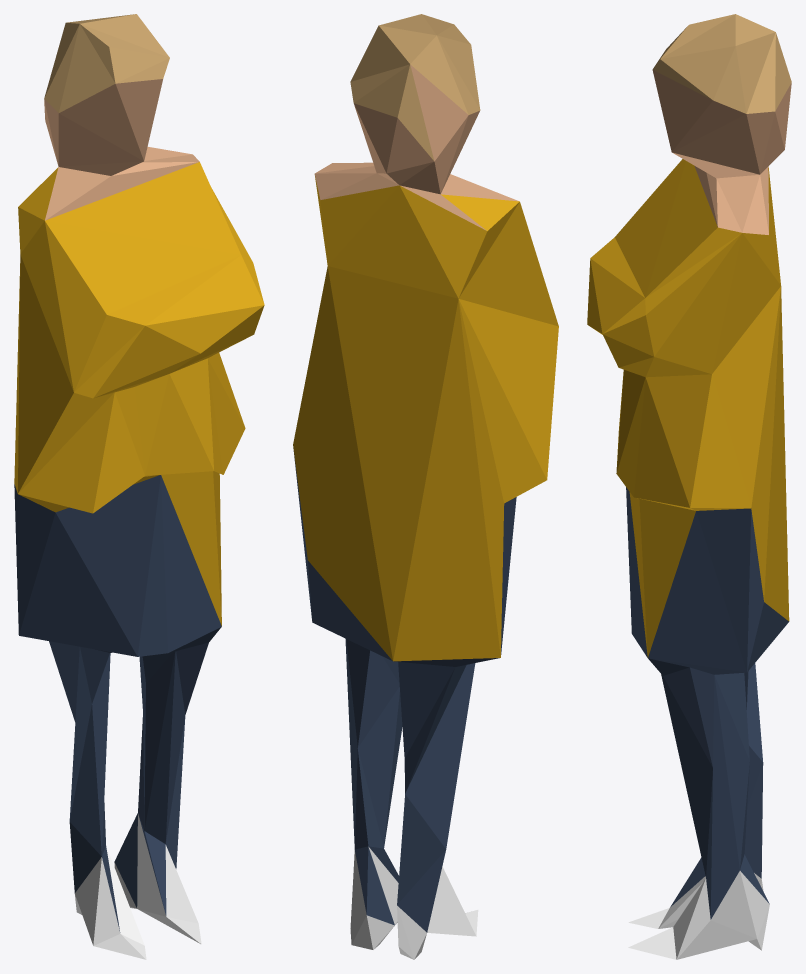
Rendered from walker-15.glb.
3 renders of one model, left to right at view 1: azimuth 30°, elevation 25°; view 2: azimuth 150°, elevation 25°; view 3: azimuth 270°, elevation 25°, orthographic.
Visible parts, largest first — view 1: Woman09; view 2: Woman09; view 3: Woman09.
Part boxes in pixels (left/top/right/bottom): Woman09: left=14, top=14, right=264, bottom=959; Woman09: left=293, top=14, right=558, bottom=959; Woman09: left=587, top=14, right=791, bottom=959.
Size of the model in its own units: 0.4109 by 1.55 by 0.3184.
